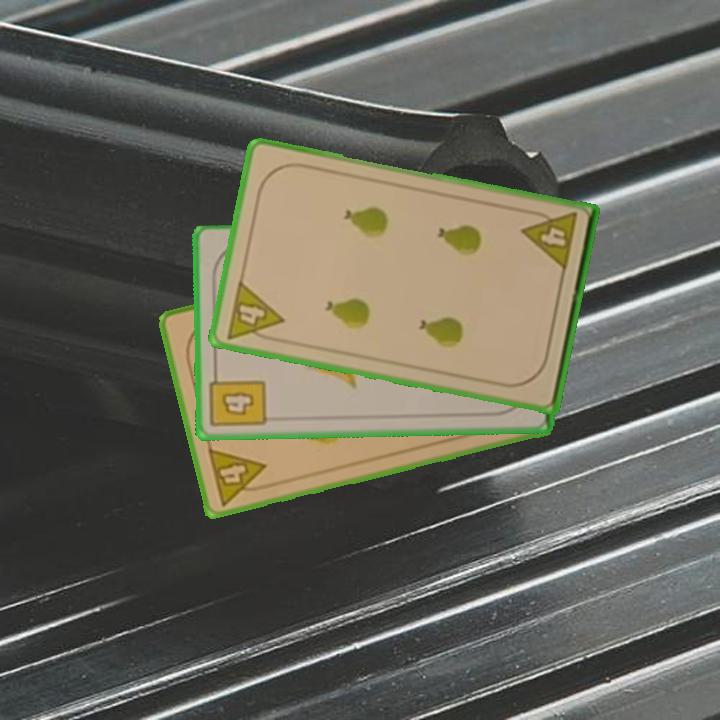4b: (207, 366, 269, 431)
4p: (222, 277, 287, 346), (204, 444, 273, 508), (519, 206, 580, 274)
